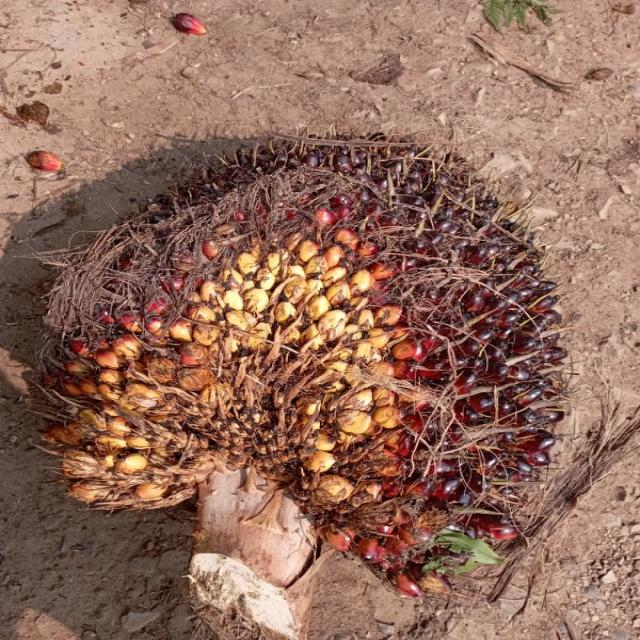fraksi 1: (43, 122, 606, 594)
